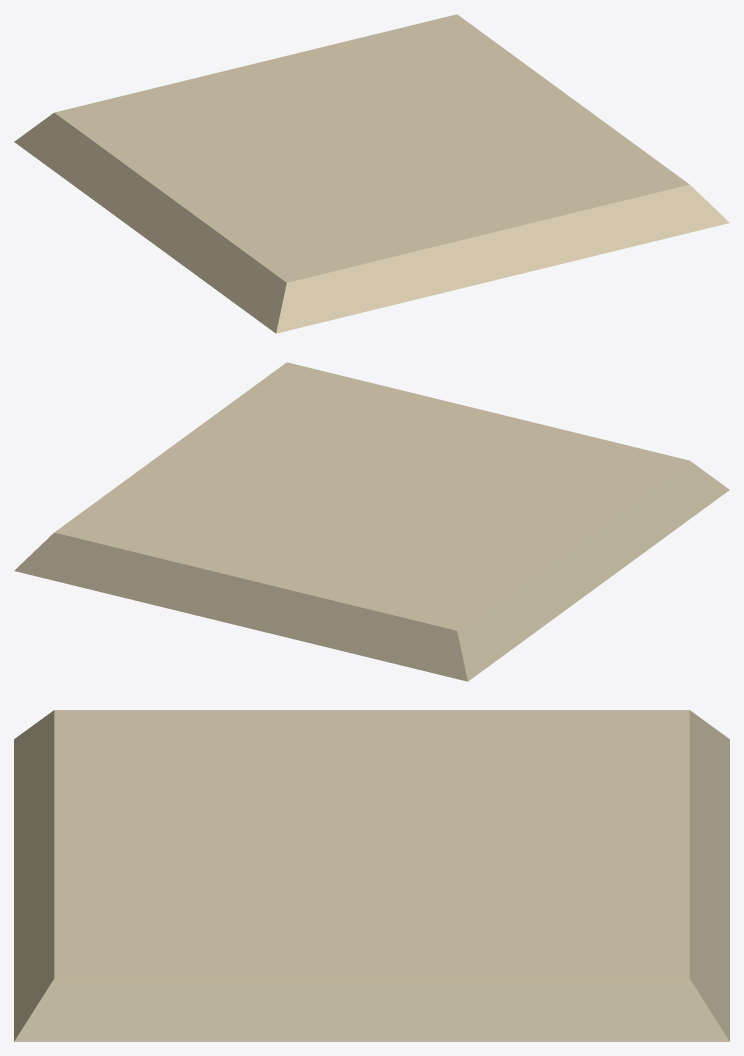
The model's file is giza-khufu-b30.glb.
The picture shows the model from 3 angles, top to bottom: view 1: azimuth 30°, elevation 25°; view 2: azimuth 150°, elevation 25°; view 3: azimuth 270°, elevation 25°; orthographic projection. The views are drawn at different scales.
Size of the model in its own units: 230 by 16.43 by 230.
